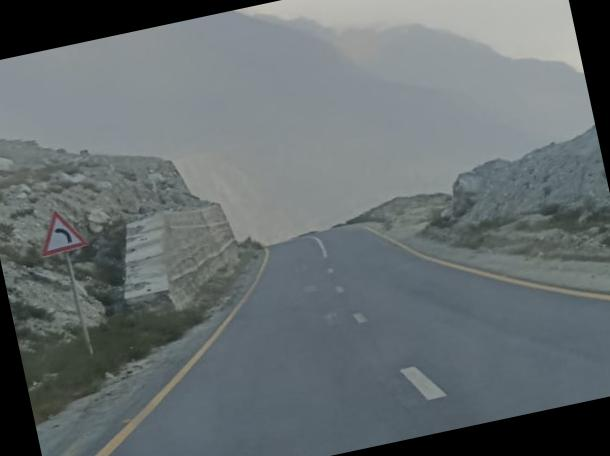left_turn: (34, 201, 88, 257)
sharp_turn: (171, 201, 557, 456)
